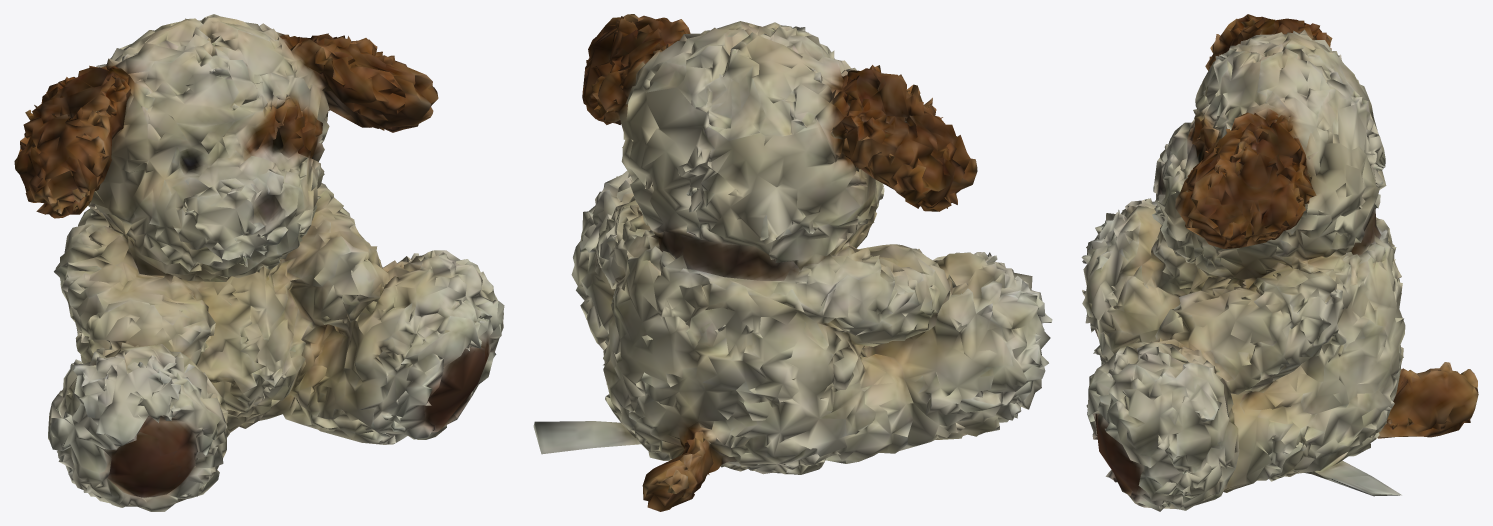
The model's file is google-plush-puppy.glb.
3 renders of one model, left to right at view 1: azimuth 30°, elevation 25°; view 2: azimuth 150°, elevation 25°; view 3: azimuth 270°, elevation 25°, orthographic. The views are drawn at different scales.
Visible parts, largest first — view 1: Node; view 2: Node; view 3: Node.
Part boxes in pixels (left/top/right/bottom): Node: left=14, top=14, right=504, bottom=511; Node: left=533, top=14, right=1052, bottom=511; Node: left=1081, top=14, right=1478, bottom=511.
Bounding box in the file's own units: 0.2316 × 0.1992 × 0.186.
Materials: 1 (1 with a texture image).
